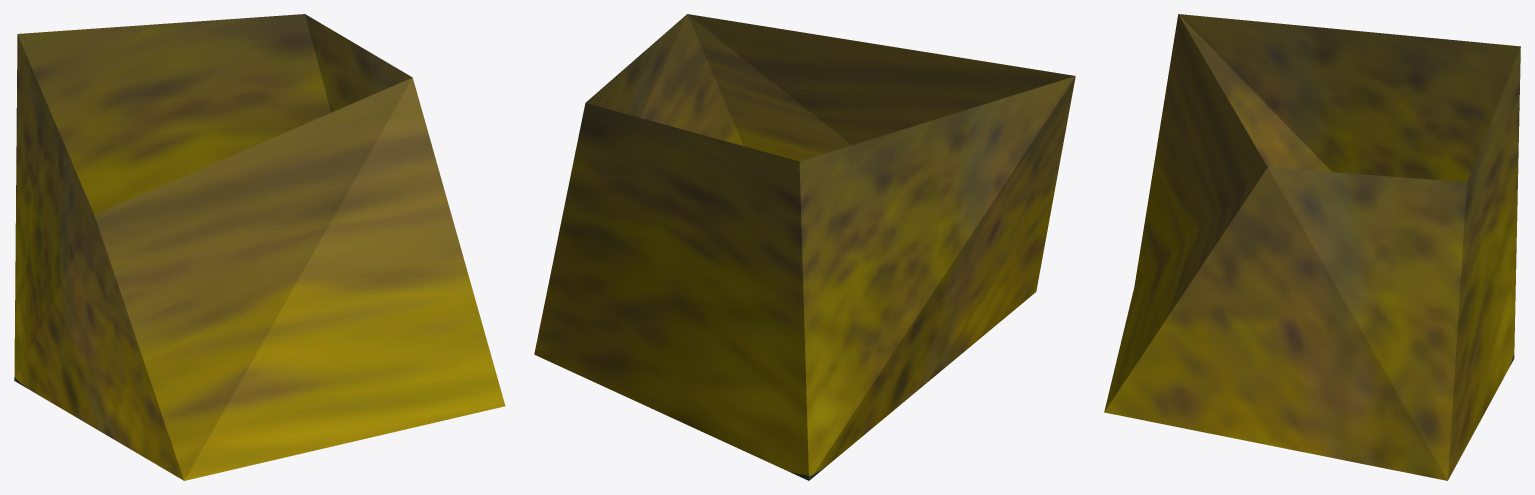
Rendered from Ridge_2_2_Lat.gltf.
3 renders of one model, left to right at view 1: azimuth 30°, elevation 25°; view 2: azimuth 150°, elevation 25°; view 3: azimuth 270°, elevation 25°, orthographic. The views are drawn at different scales.
Parts seen in each view (by area): view 1: Ridge_2_2_Lat; view 2: Ridge_2_2_Lat; view 3: Ridge_2_2_Lat.
Boxes of the visible parts, bbox=[...] form: Ridge_2_2_Lat: bbox=[14, 14, 505, 480]; Ridge_2_2_Lat: bbox=[534, 14, 1075, 480]; Ridge_2_2_Lat: bbox=[1104, 14, 1520, 480].
Size of the model in its own units: 17.58 by 13.31 by 15.94.
Materials: 1 (1 with a texture image).
